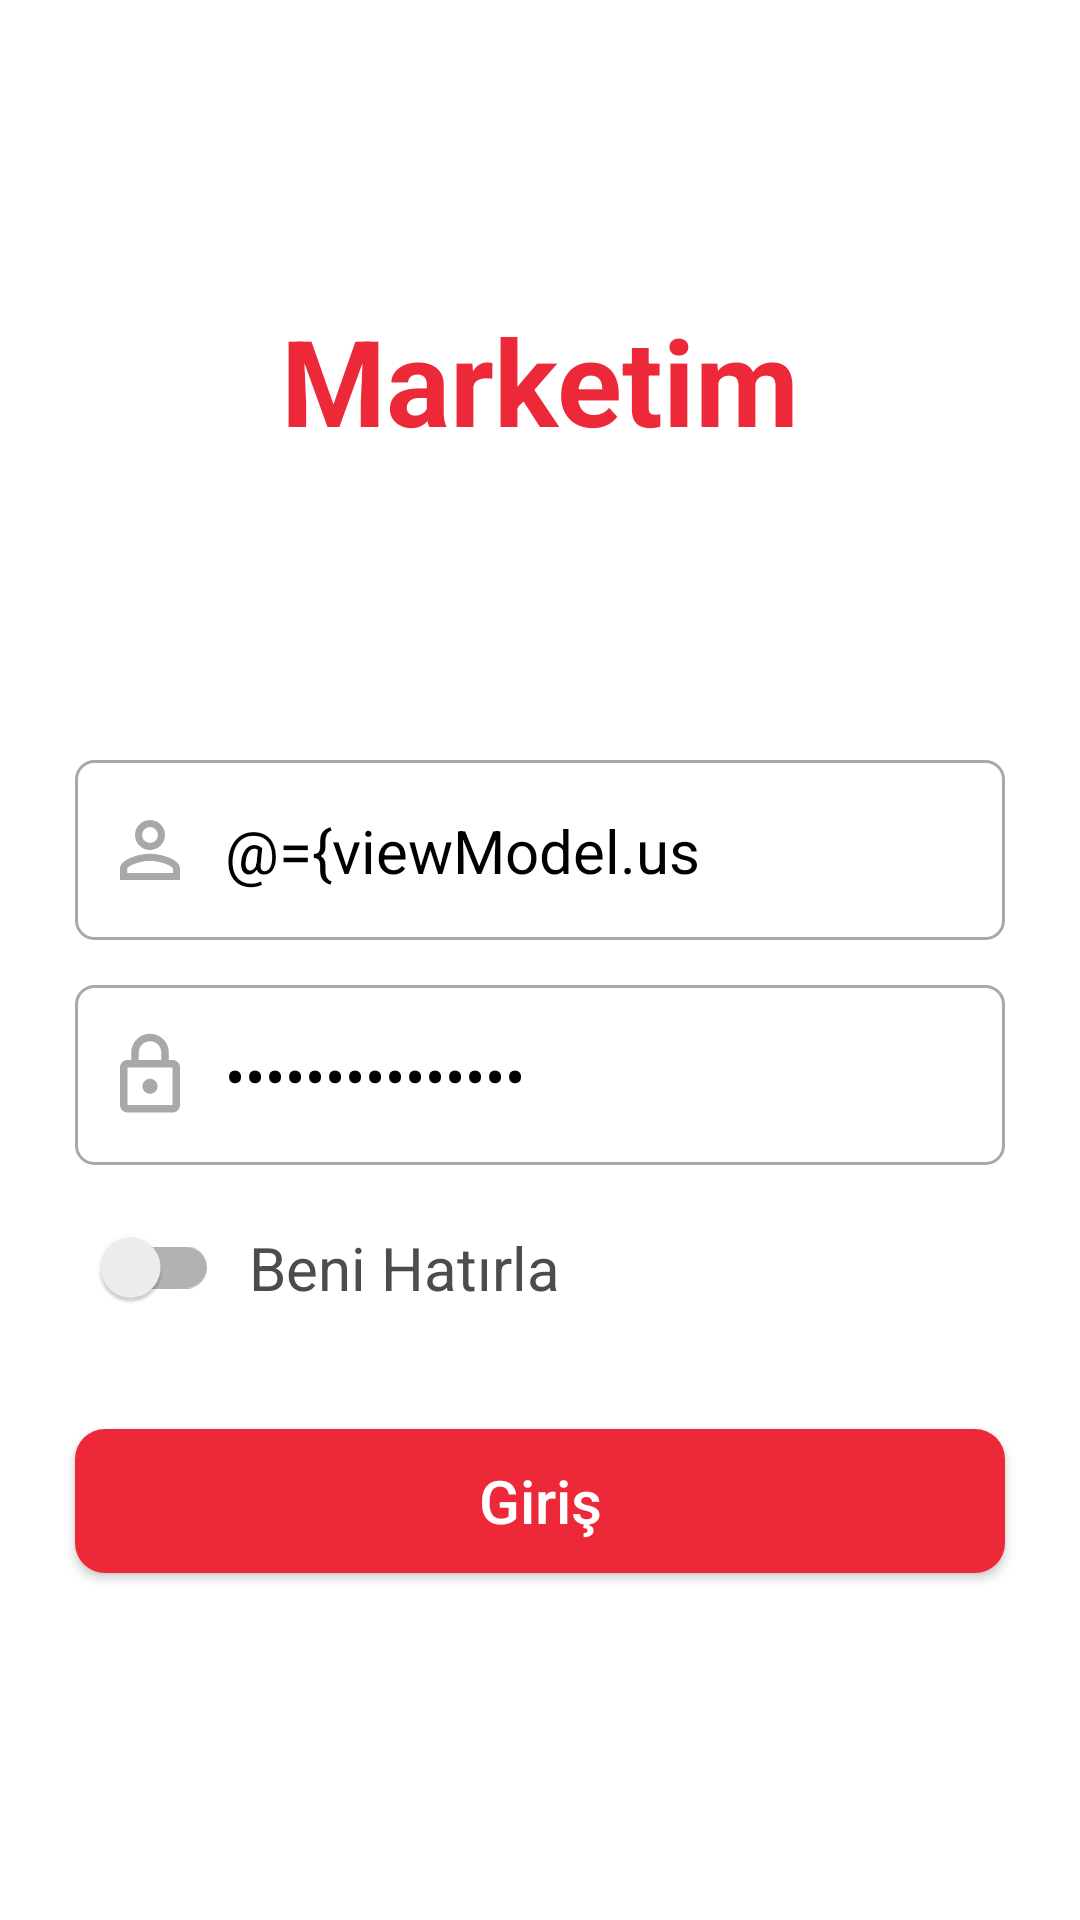

Named icons in this screenshot (1080x1920) and their bounding boxes, (x1, y1, x2, y2):
lock: (120, 1034, 180, 1113)
person: (120, 820, 180, 880)
